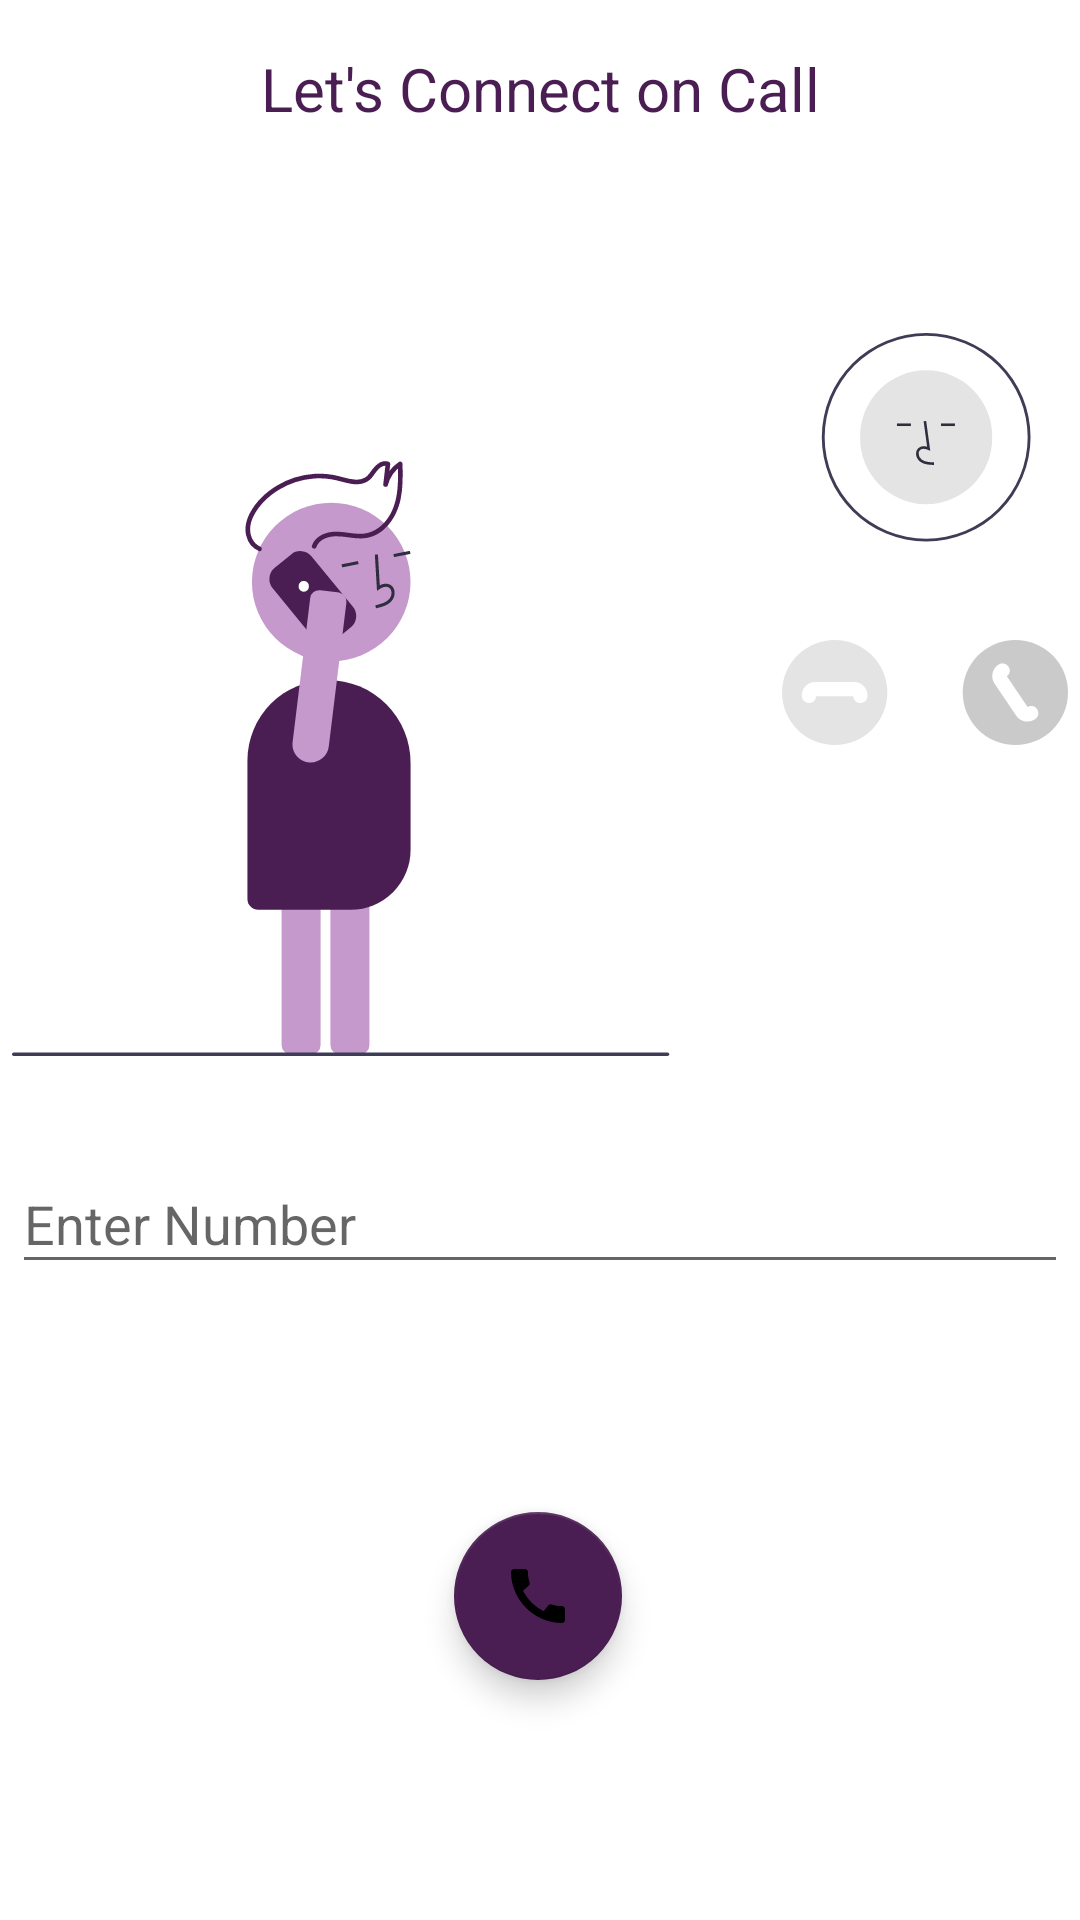

Icons on this 1080*1920 Android screen, each with its box as (x1, y1, x2, y2):
call: (454, 1512, 622, 1680)
